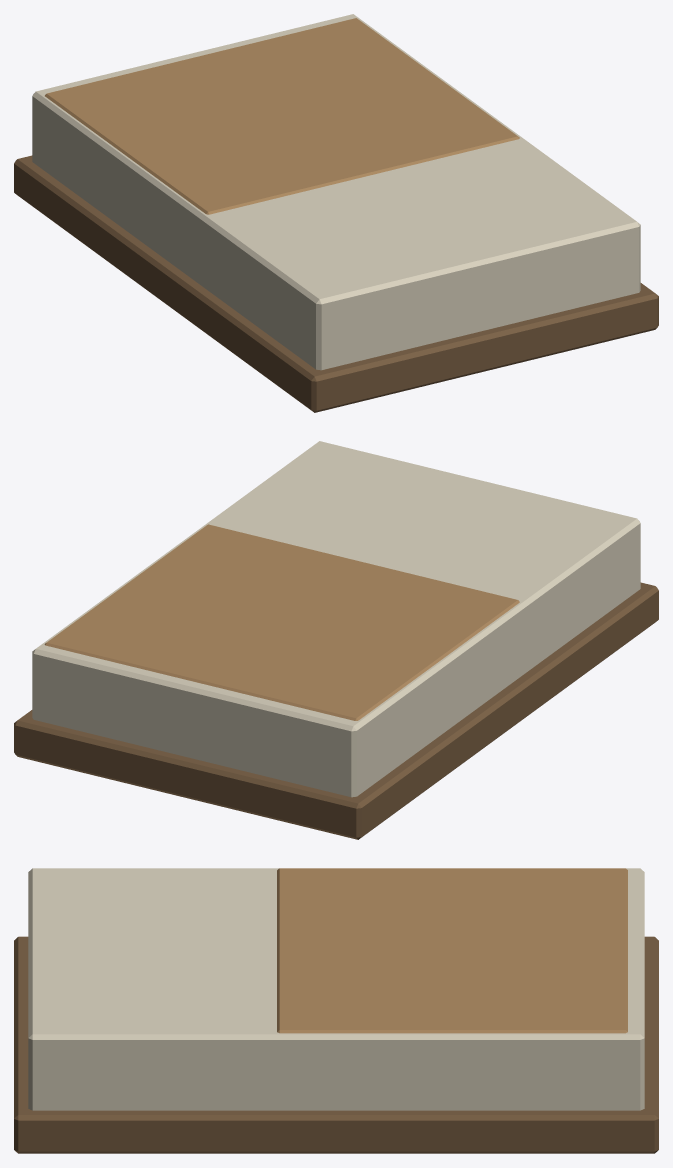
File: small_bed.lod1.glb
The picture shows the model from 3 angles, top to bottom: view 1: azimuth 30°, elevation 25°; view 2: azimuth 150°, elevation 25°; view 3: azimuth 270°, elevation 25°; orthographic projection. The views are drawn at different scales.
Bounding box in the file's own units: 1.8 × 0.534 × 2.7.
